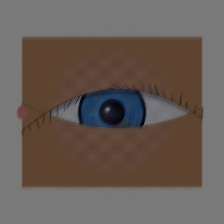pinguecula_lesion: (32, 104, 76, 138)
